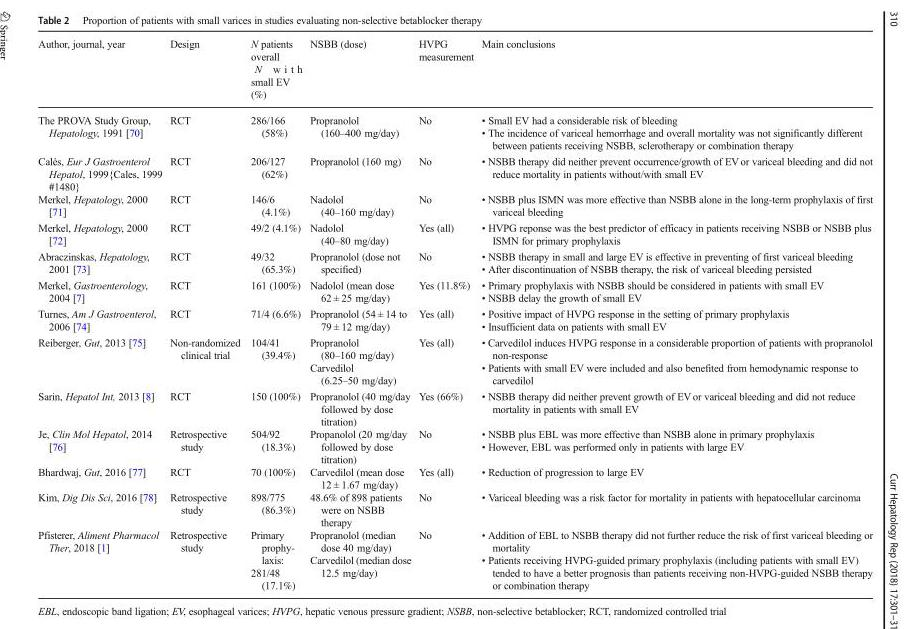table: (38, 36, 873, 590)
table column: (477, 36, 873, 590), (38, 36, 166, 590), (306, 36, 415, 590), (166, 36, 245, 590), (415, 36, 477, 590), (245, 36, 306, 590)
table column header: (38, 36, 873, 106)
table row: (38, 36, 873, 106), (38, 527, 873, 590), (38, 333, 873, 387), (38, 106, 873, 152), (38, 152, 873, 191), (38, 387, 873, 426), (38, 426, 873, 464), (38, 489, 873, 527), (38, 218, 873, 247), (38, 247, 873, 276), (38, 304, 873, 333), (38, 276, 873, 304), (38, 191, 873, 218), (38, 464, 873, 489)
